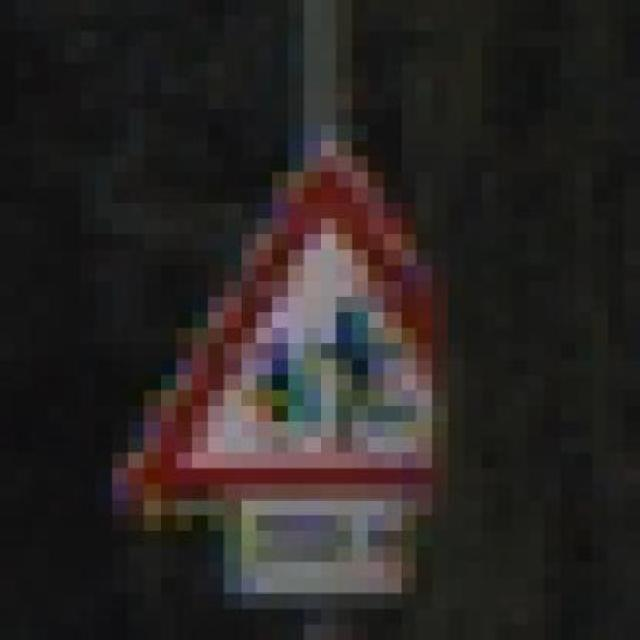Beware of children: (111, 109, 544, 546)
